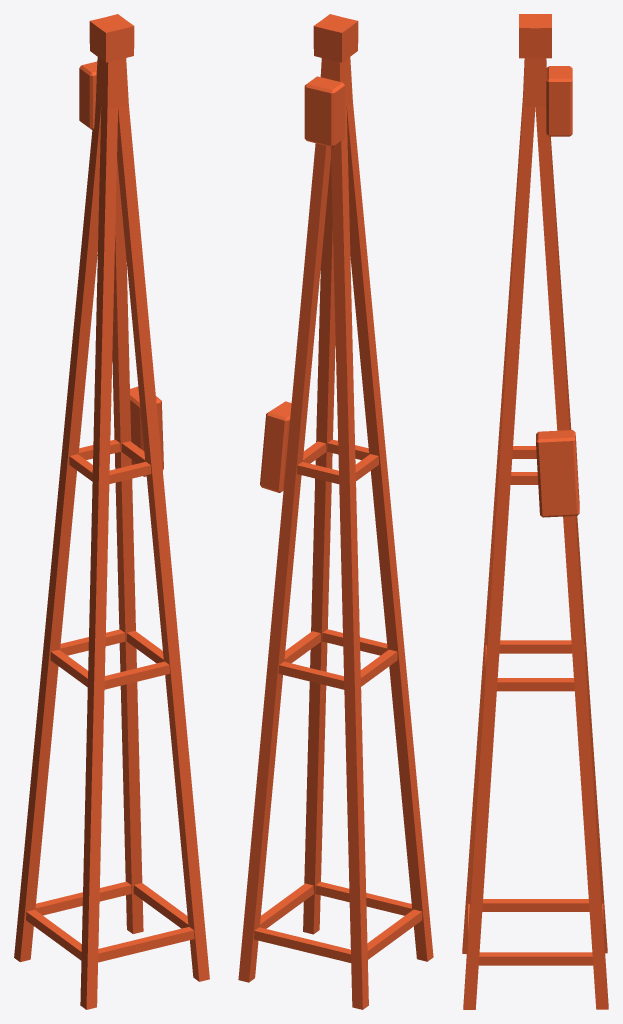
The model's file is Mobile_Tower.fbx.
3 renders of one model, left to right at view 1: azimuth 30°, elevation 25°; view 2: azimuth 150°, elevation 25°; view 3: azimuth 270°, elevation 25°, orthographic.
Visible parts, largest first — view 1: Mobile_Tower; view 2: Mobile_Tower; view 3: Mobile_Tower.
Boxes of the visible parts, <box> form: Mobile_Tower: <box>14,14,209,1009</box>; Mobile_Tower: <box>238,14,433,1009</box>; Mobile_Tower: <box>462,14,608,1009</box>.
Size of the model in its own units: 561 by 4060 by 561.
